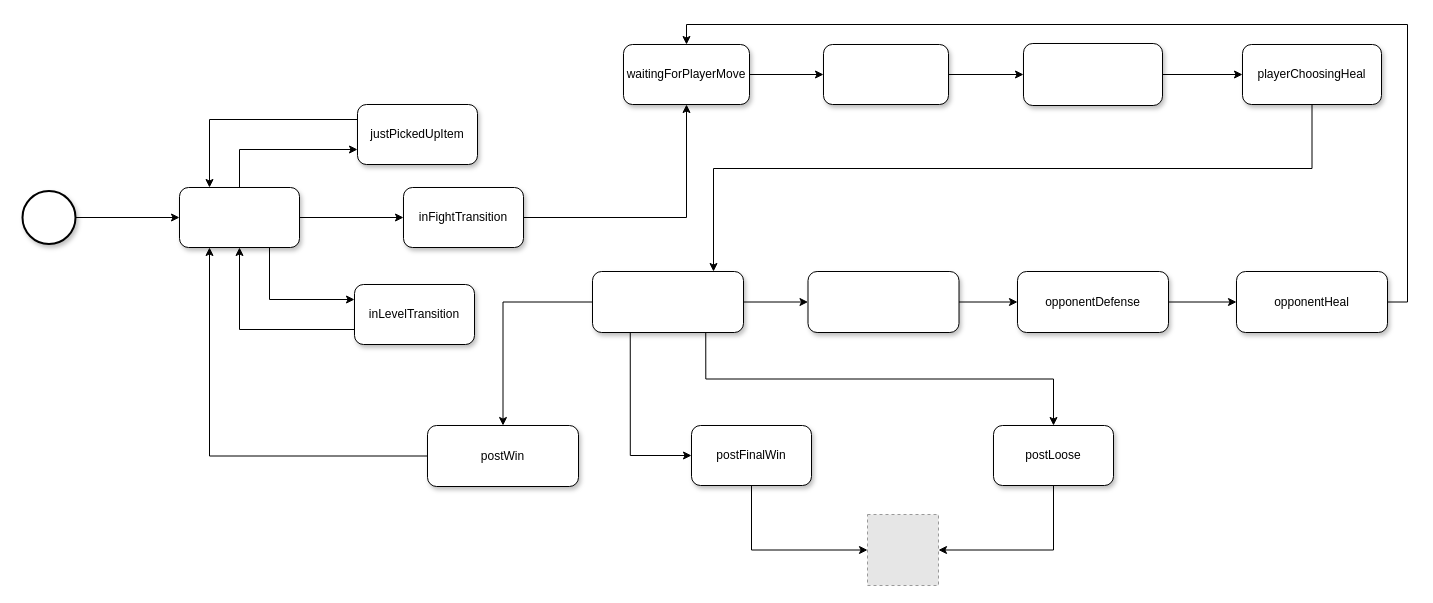
Some shapes in this 1433 by 603 pixel diagram are drawn without their labels. Grey dashed boxes stand in for pictures. The centre of each missing label's shape, as x and y in pixels:
"exploring" goes at (240,218).
"opponentAttack" goes at (884,303).
"playerChoosingAttack" goes at (886,76).
"playerChoosingDefense" goes at (1093,75).
"waitingForOpponentMove" goes at (669,303).
